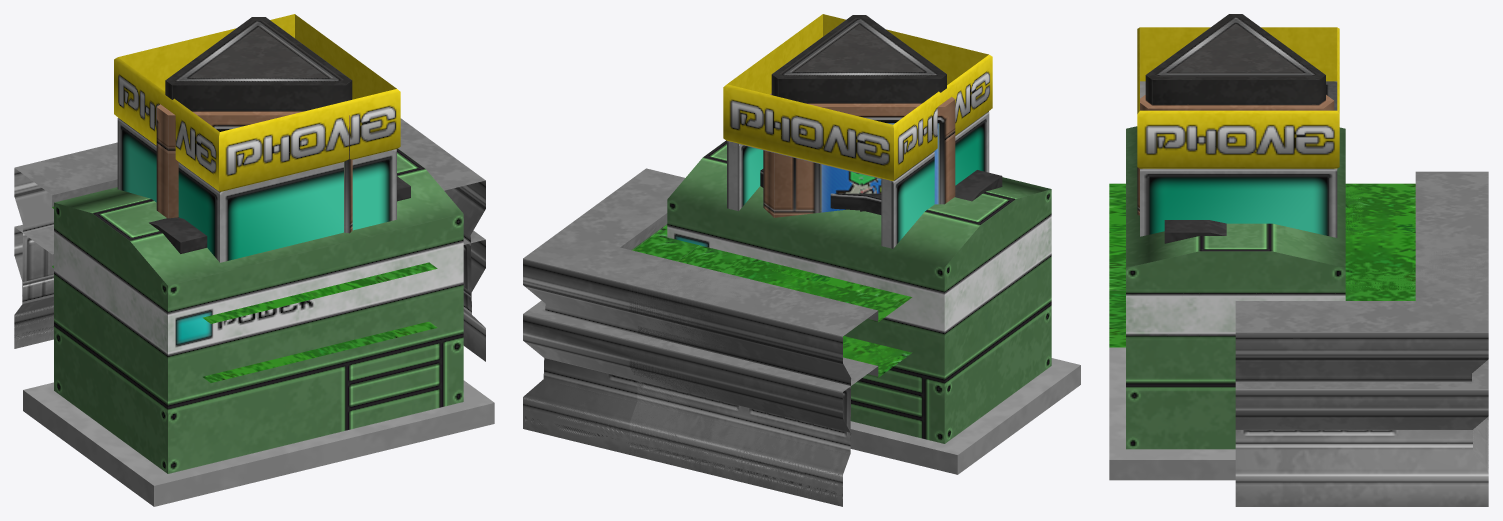
Rendered from cityProps_mesh.fbx.
The picture shows the model from 3 angles, left to right: view 1: azimuth 30°, elevation 25°; view 2: azimuth 150°, elevation 25°; view 3: azimuth 270°, elevation 25°; orthographic projection. The views are drawn at different scales.
Parts seen in each view (by area): view 1: powerTransformer, phoneBooth, infoKiosk01, flowerbed01, flowerbed01_Corner, flowerbed02, flowerbed01_Ground, flowerbed02_Ground, powerCabinet, flowerbed02_Corner; view 2: powerTransformer, flowerbed01, flowerbed01_Corner, phoneBooth, infoKiosk01, flowerbed02, flowerbed02_Corner, flowerbed01_Ground, drinkVendor01, powerCabinet; view 3: flowerbed01_Corner, powerTransformer, phoneBooth, infoKiosk01, flowerbed02_Corner, flowerbed01, flowerbed01_Ground, powerCabinet, flowerbed02_Ground.
Boxes of the visible parts, bbox=[...] form: powerTransformer: bbox=[23, 148, 494, 506]; phoneBooth: bbox=[114, 14, 400, 262]; infoKiosk01: bbox=[156, 17, 352, 233]; flowerbed01: bbox=[14, 142, 117, 348]; flowerbed01_Corner: bbox=[398, 118, 485, 361]; flowerbed02: bbox=[14, 224, 53, 348]; flowerbed01_Ground: bbox=[202, 262, 437, 323]; flowerbed02_Ground: bbox=[203, 321, 437, 382]; powerCabinet: bbox=[149, 176, 410, 253]; flowerbed02_Corner: bbox=[463, 230, 485, 314]; powerTransformer: bbox=[667, 140, 1080, 474]; flowerbed01: bbox=[629, 245, 903, 506]; flowerbed01_Corner: bbox=[523, 168, 775, 479]; phoneBooth: bbox=[723, 14, 992, 248]; infoKiosk01: bbox=[763, 15, 955, 217]; flowerbed02: bbox=[629, 334, 912, 506]; flowerbed02_Corner: bbox=[523, 300, 743, 474]; flowerbed01_Ground: bbox=[765, 268, 912, 302]; drinkVendor01: bbox=[760, 169, 881, 214]; powerCabinet: bbox=[955, 170, 1002, 201]; flowerbed01_Corner: bbox=[1235, 225, 1488, 506]; powerTransformer: bbox=[1109, 126, 1345, 480]; phoneBooth: bbox=[1137, 27, 1339, 237]; infoKiosk01: bbox=[1137, 14, 1334, 215]; flowerbed02_Corner: bbox=[1235, 359, 1488, 472]; flowerbed01: bbox=[1345, 171, 1488, 419]; flowerbed01_Ground: bbox=[1109, 183, 1362, 290]; powerCabinet: bbox=[1164, 220, 1226, 243]; flowerbed02_Ground: bbox=[1109, 290, 1125, 347].
Bounding box in the file's own units: 350 × 300 × 300.
